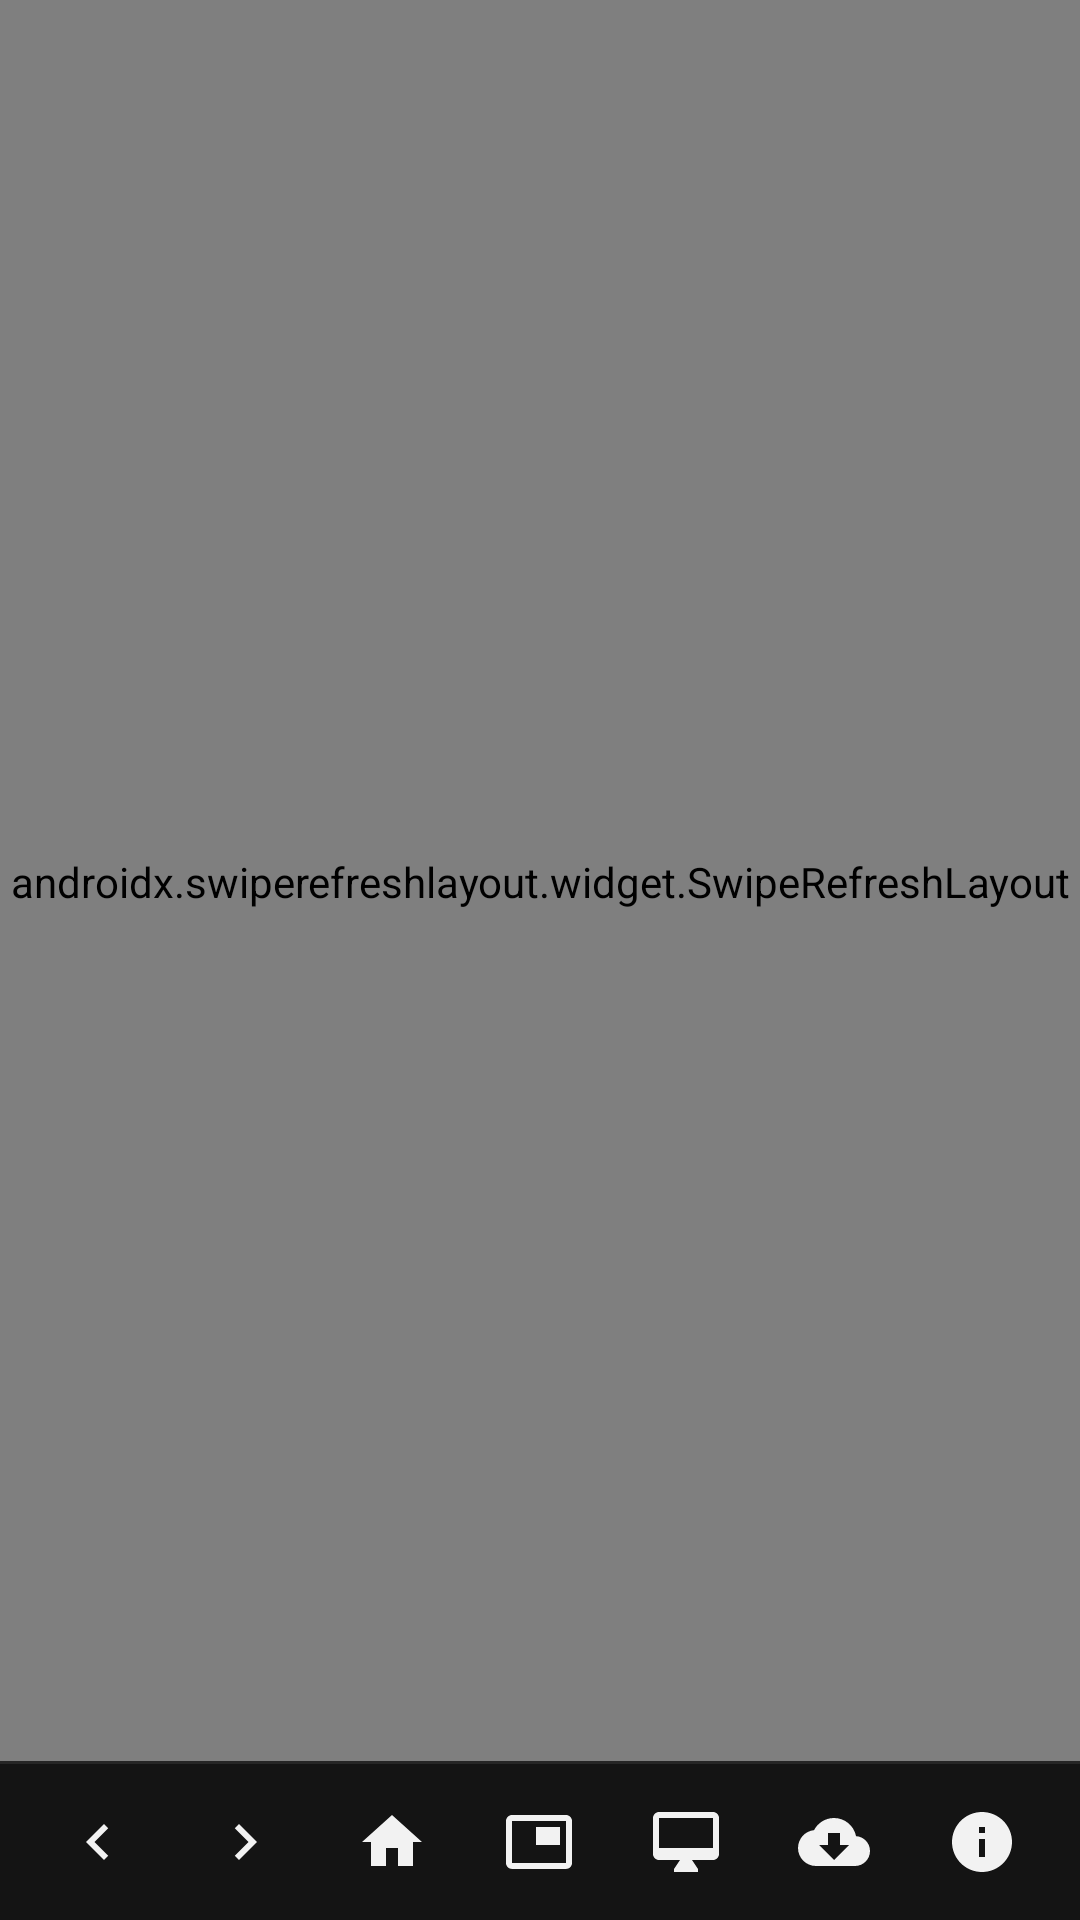

Where to tap for icons on this 1080 x 1920 app screen, as (x=x, y=y):
About: (x=982, y=1842)
Back: (x=97, y=1842)
Desktop Mode: (x=686, y=1842)
Download: (x=834, y=1842)
Forward: (x=246, y=1842)
Home: (x=392, y=1840)
Picture-in-Picture: (x=539, y=1842)
